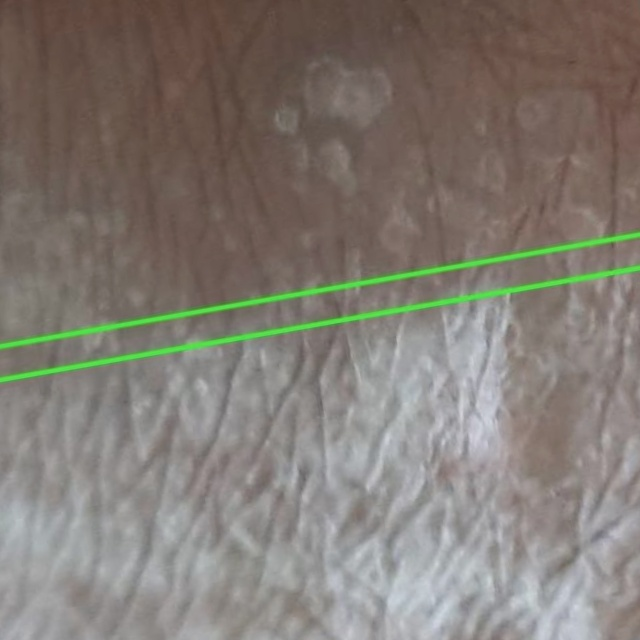Eczema: (0, 234, 639, 639), (0, 0, 639, 380)
